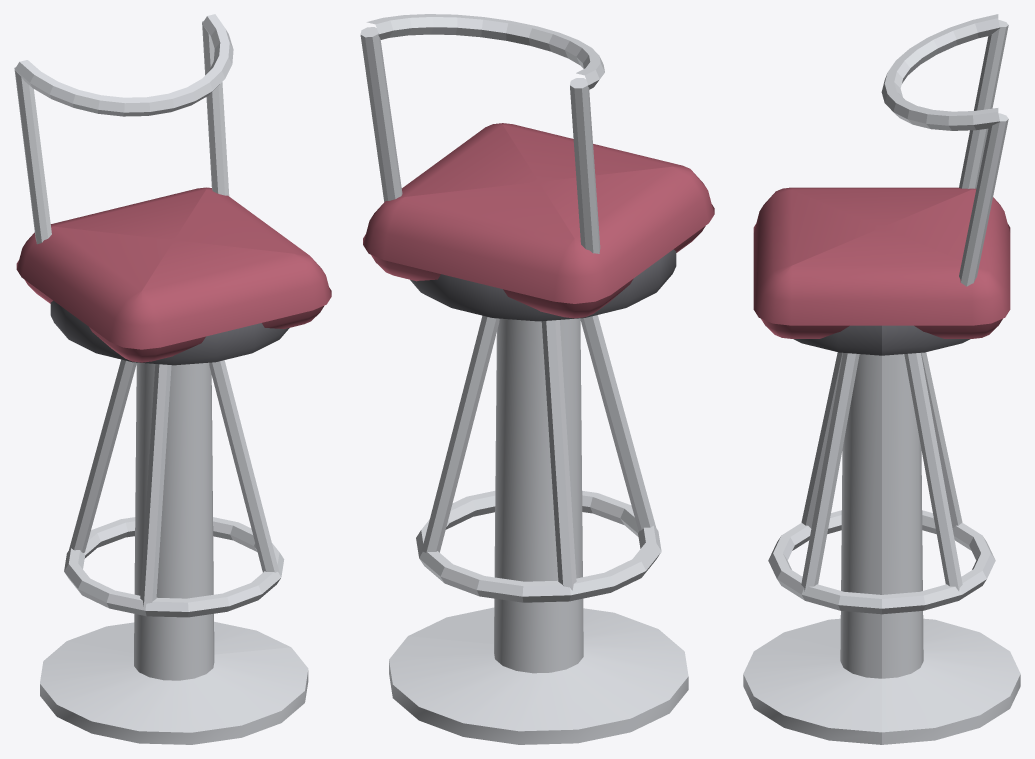
The model's file is nightclub-and-dj-booth-bar-stool-25407fbb__34123.glb.
3 renders of one model, left to right at view 1: azimuth 30°, elevation 25°; view 2: azimuth 150°, elevation 25°; view 3: azimuth 270°, elevation 25°, orthographic. The views are drawn at different scales.
Parts seen in each view (by area): view 1: bar-stool; view 2: bar-stool; view 3: bar-stool.
Part boxes in pixels (box(x1,y1,x2,y2)): bar-stool: box(14, 14, 331, 744); bar-stool: box(360, 14, 714, 744); bar-stool: box(743, 14, 1020, 744).
Bounding box in the file's own units: 0.4 × 0.9919 × 0.4.
